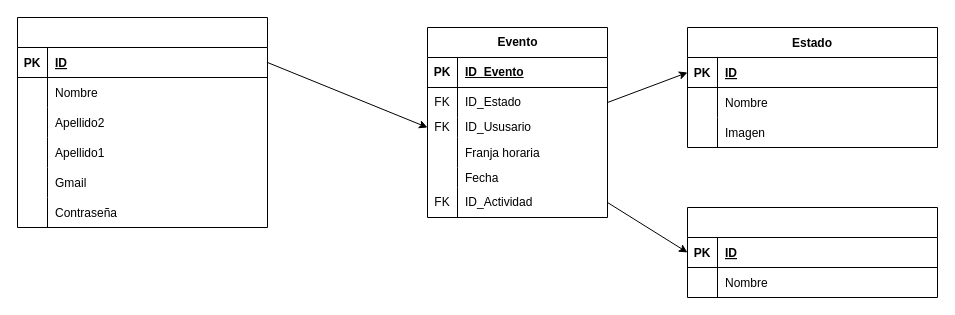
Image size: 955x315. Some labels were removed from this diagram. Each missing label, with the box of its shape:
Actividad: (686, 206, 938, 298)
Usuario: (16, 16, 268, 228)
